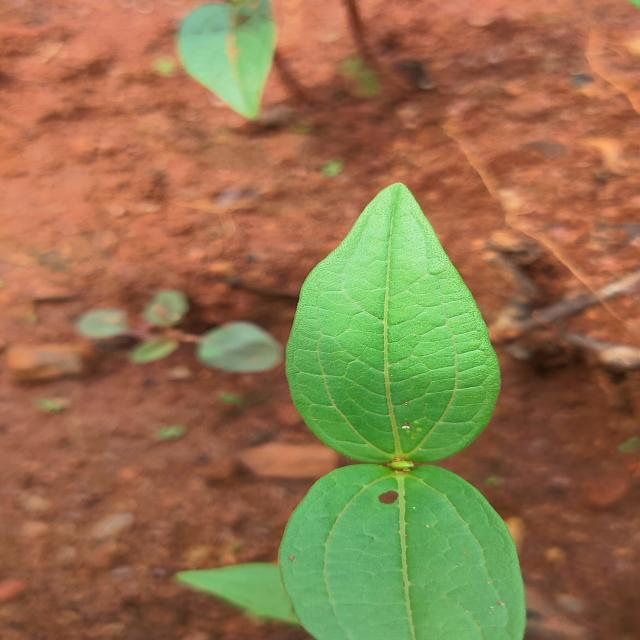Black gram_healthy: (286, 184, 496, 459), (284, 459, 521, 640)
